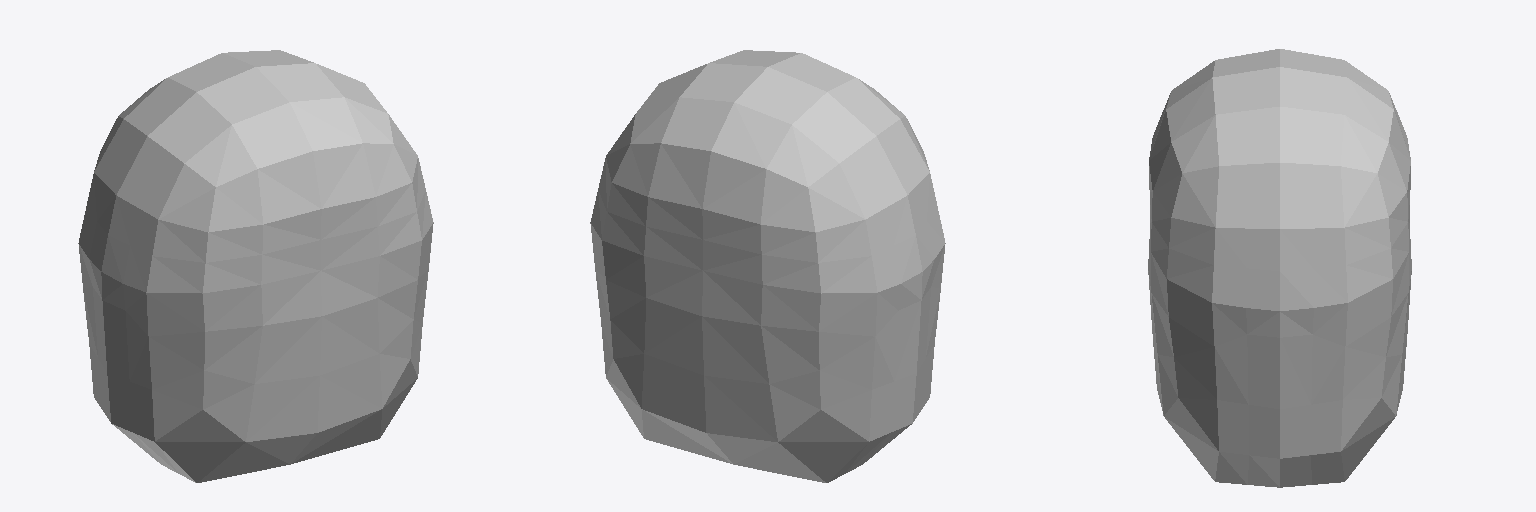
Rendered from Player_Body.obj.
3 views of the same model, side by side, from view 1: azimuth 30°, elevation 25°; view 2: azimuth 150°, elevation 25°; view 3: azimuth 270°, elevation 25° (orthographic).
Parts seen in each view (by area): view 1: 立方体_立方体.002; view 2: 立方体_立方体.002; view 3: 立方体_立方体.002.
Boxes of the visible parts, x1=… form: 立方体_立方体.002: x1=78, y1=50, x2=433, y2=482; 立方体_立方体.002: x1=590, y1=50, x2=945, y2=482; 立方体_立方体.002: x1=1148, y1=49, x2=1411, y2=487.
Size of the model in its own units: 1.74 by 2.03 by 1.28.